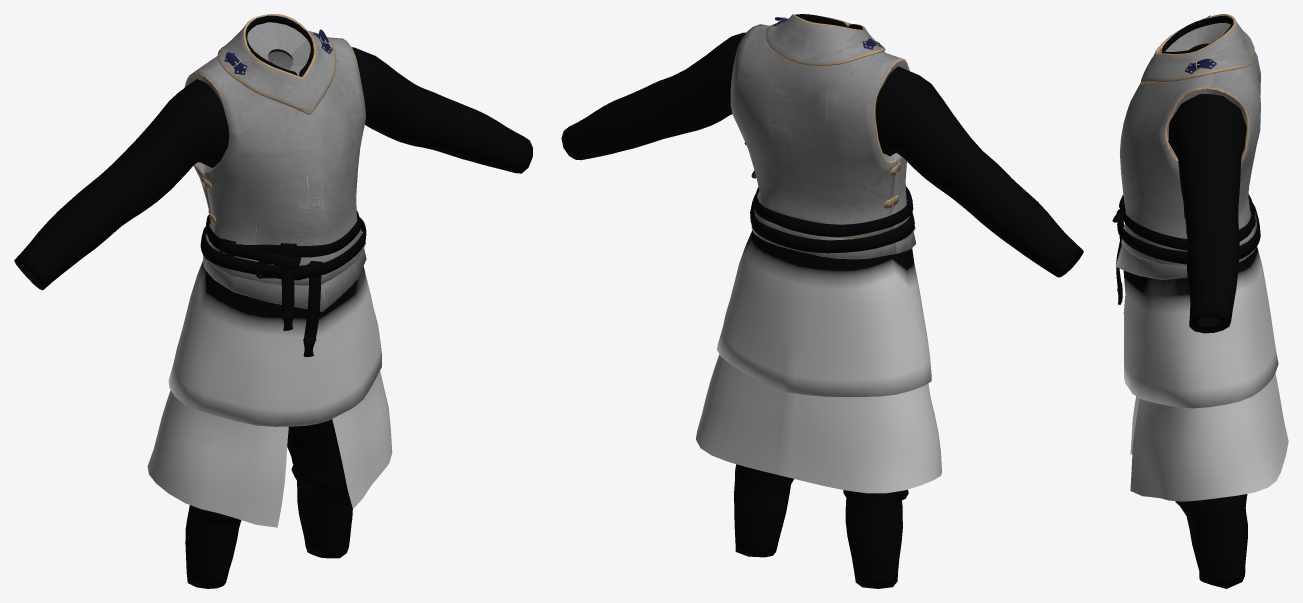
Rendered from swan_knight_armor_1a_t2.fbx.
3 renders of one model, left to right at view 1: azimuth 30°, elevation 25°; view 2: azimuth 150°, elevation 25°; view 3: azimuth 270°, elevation 25°, orthographic. The views are drawn at different scales.
Visible parts, largest first — view 1: swan_knight_armor_1a_t2.0, swan_knight_armor_1a_t2.1; view 2: swan_knight_armor_1a_t2.0, swan_knight_armor_1a_t2.1; view 3: swan_knight_armor_1a_t2.0, swan_knight_armor_1a_t2.1.
Part boxes in pixels (box(x1,y1,x2,y2)): swan_knight_armor_1a_t2.0: box(14, 15, 532, 588); swan_knight_armor_1a_t2.1: box(184, 14, 366, 311); swan_knight_armor_1a_t2.0: box(561, 14, 1083, 588); swan_knight_armor_1a_t2.1: box(730, 14, 915, 259); swan_knight_armor_1a_t2.0: box(1112, 16, 1288, 588); swan_knight_armor_1a_t2.1: box(1115, 14, 1260, 279).
Size of the model in its own units: 1.34 by 0.4125 by 1.37.
